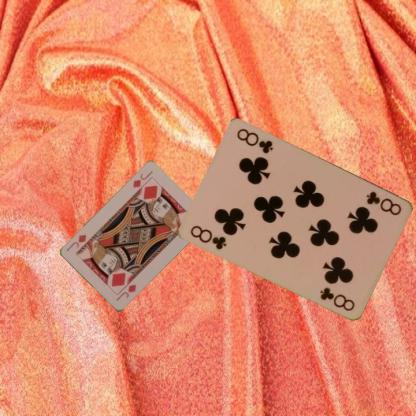8c: (364, 187, 404, 217), (188, 222, 228, 251)
Jd: (130, 168, 154, 190), (113, 282, 138, 302)
